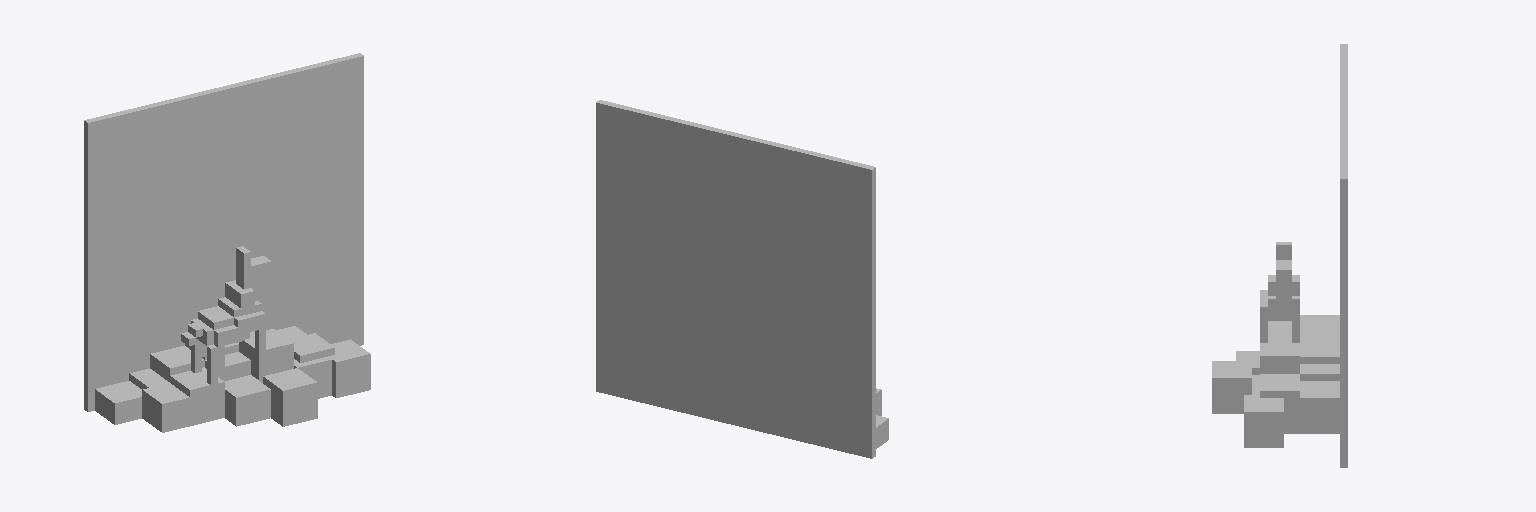
The model's file is Llamarock.obj.
The picture shows the model from 3 angles: view 1: azimuth 30°, elevation 25°; view 2: azimuth 150°, elevation 25°; view 3: azimuth 270°, elevation 25°; orthographic projection.
Size of the model in its own units: 40 by 40 by 17.